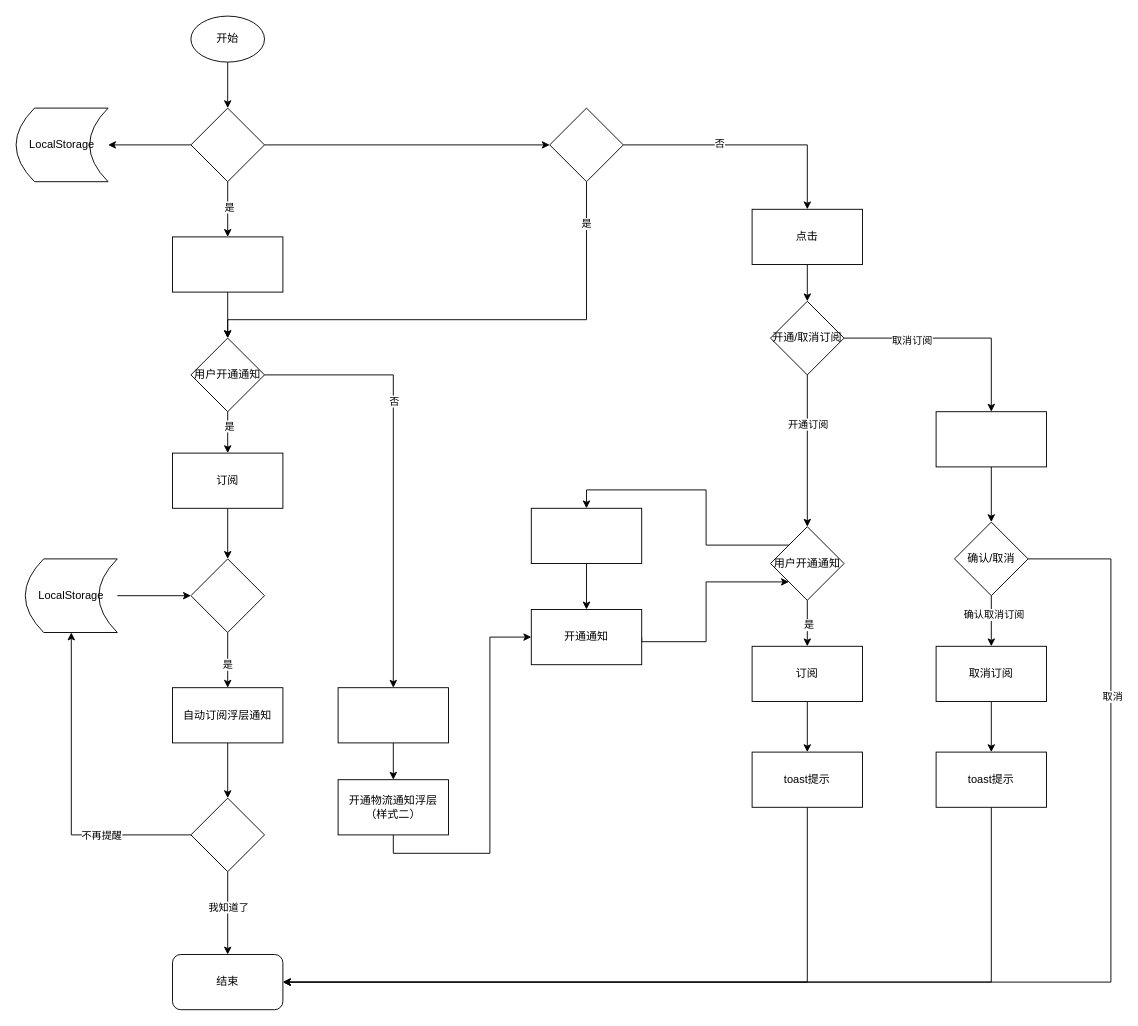
The diagram is 1138 pixels wide and 1026 high, and some of its shapes have lost their labels. The centre of each missing label's shape, as x and y in pixels:
"取消订阅浮层" belongs at point 990,439.
"我知道/不再提醒" belongs at point 227,834.
"推荐订阅浮层" belongs at point 392,715.
"新手引导" belongs at point 227,264.
"是否第一次" belongs at point 227,144.
"是否自动订阅" belongs at point 586,144.
"是否需要提醒" belongs at point 227,595.
"物流通知浮层 （样式一）" belongs at point 586,535.
